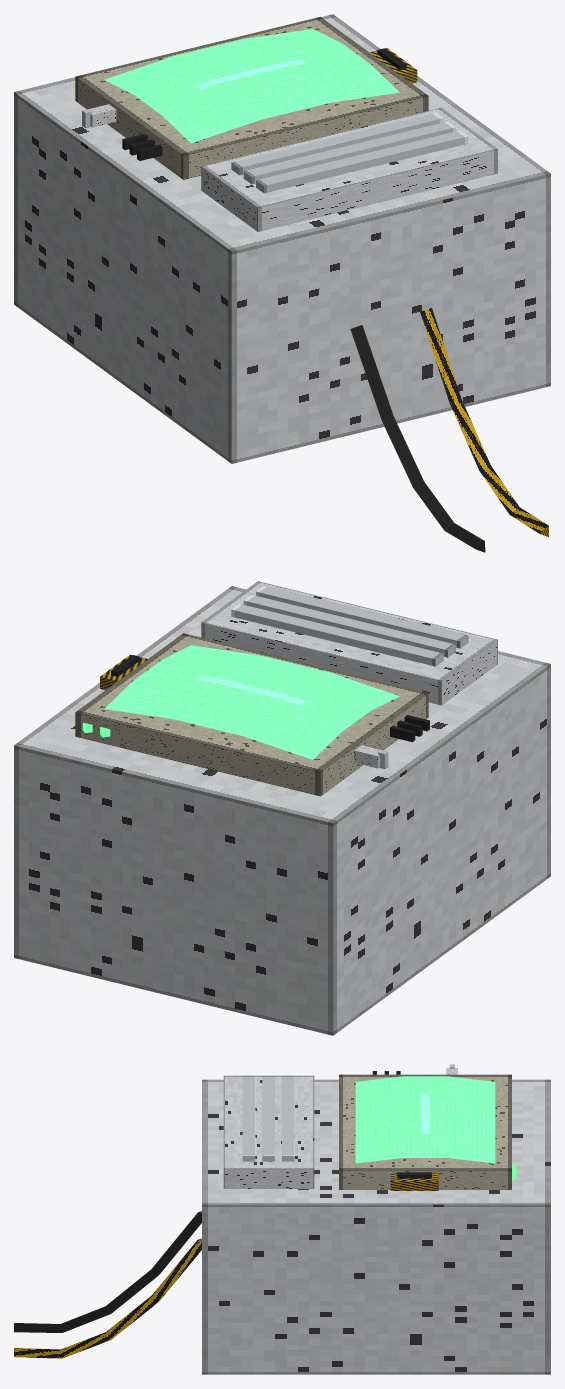
The model's file is terminal_medbay_clean.glb.
3 views of the same model, one above another, from view 1: azimuth 30°, elevation 25°; view 2: azimuth 150°, elevation 25°; view 3: azimuth 270°, elevation 25° (orthographic). The views are drawn at different scales.
Visible parts, largest first — view 1: terminal_medbay_clean; view 2: terminal_medbay_clean; view 3: terminal_medbay_clean.
Part boxes in pixels (x1,y1,x2,y2): terminal_medbay_clean: [14, 14, 550, 552]; terminal_medbay_clean: [14, 581, 550, 1035]; terminal_medbay_clean: [14, 1064, 550, 1374].
Size of the model in its own units: 0.55 by 0.4753 by 1.
10 materials, 10 textured.
